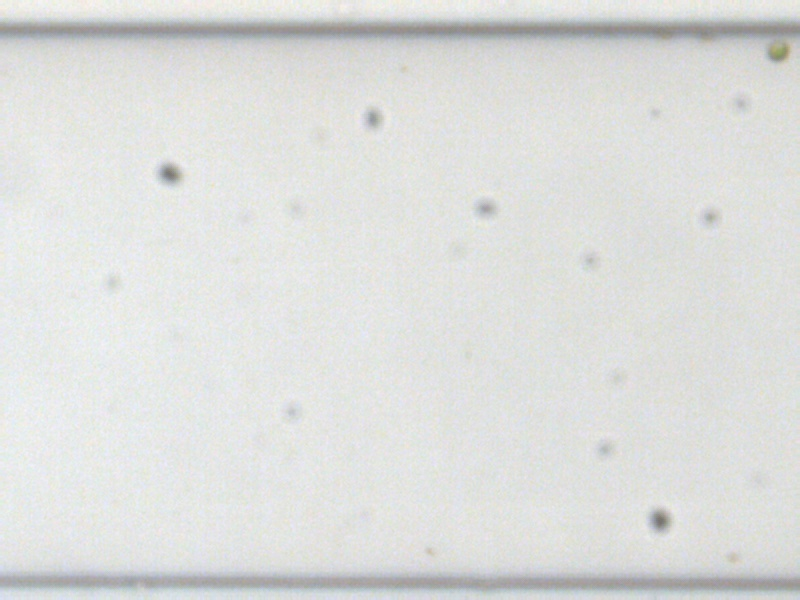Chlorella: (767, 41, 789, 60)
